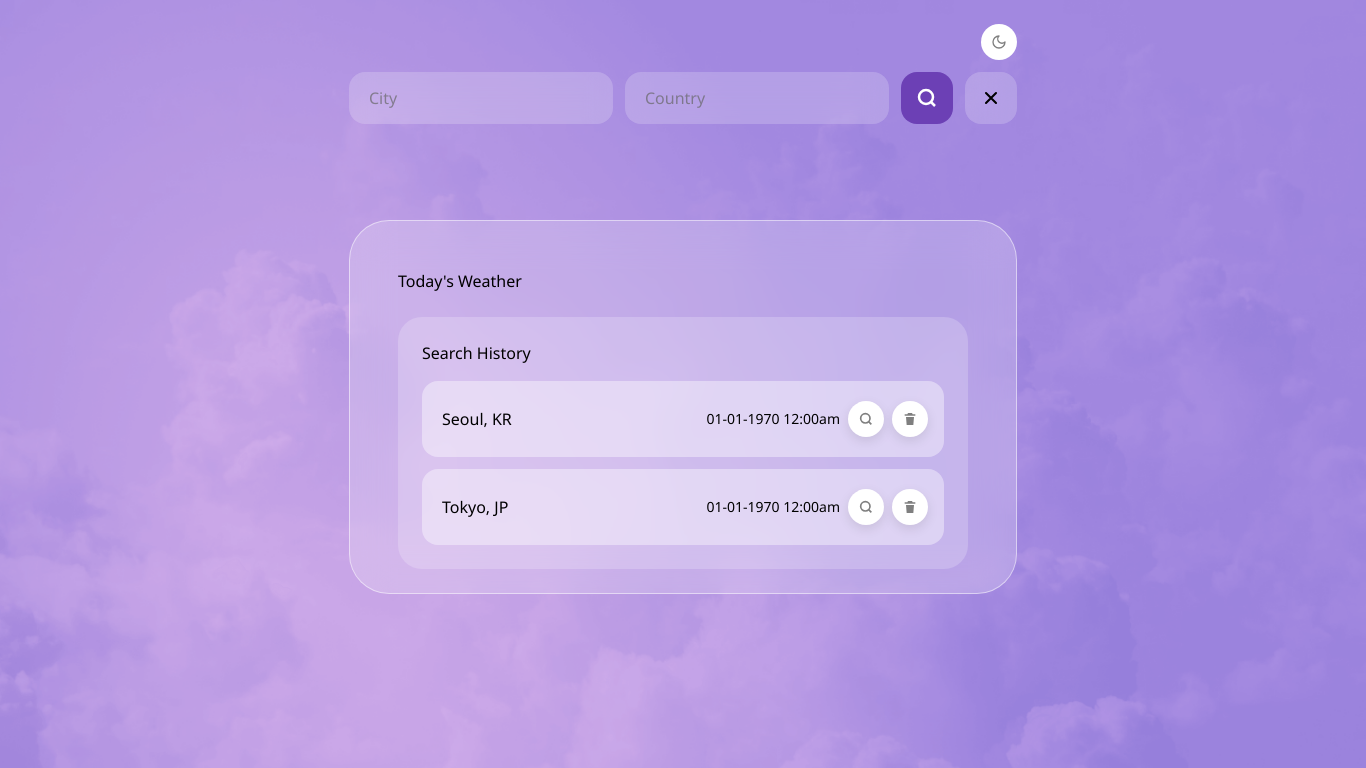
Test: search history › search again fetches fresh weather, updates the time and moves to the top
The width and height of the screenshot is (1366, 768).
Click the button named "Search Tokyo, JP again": coordinates (866, 507) [848,489,884,525]
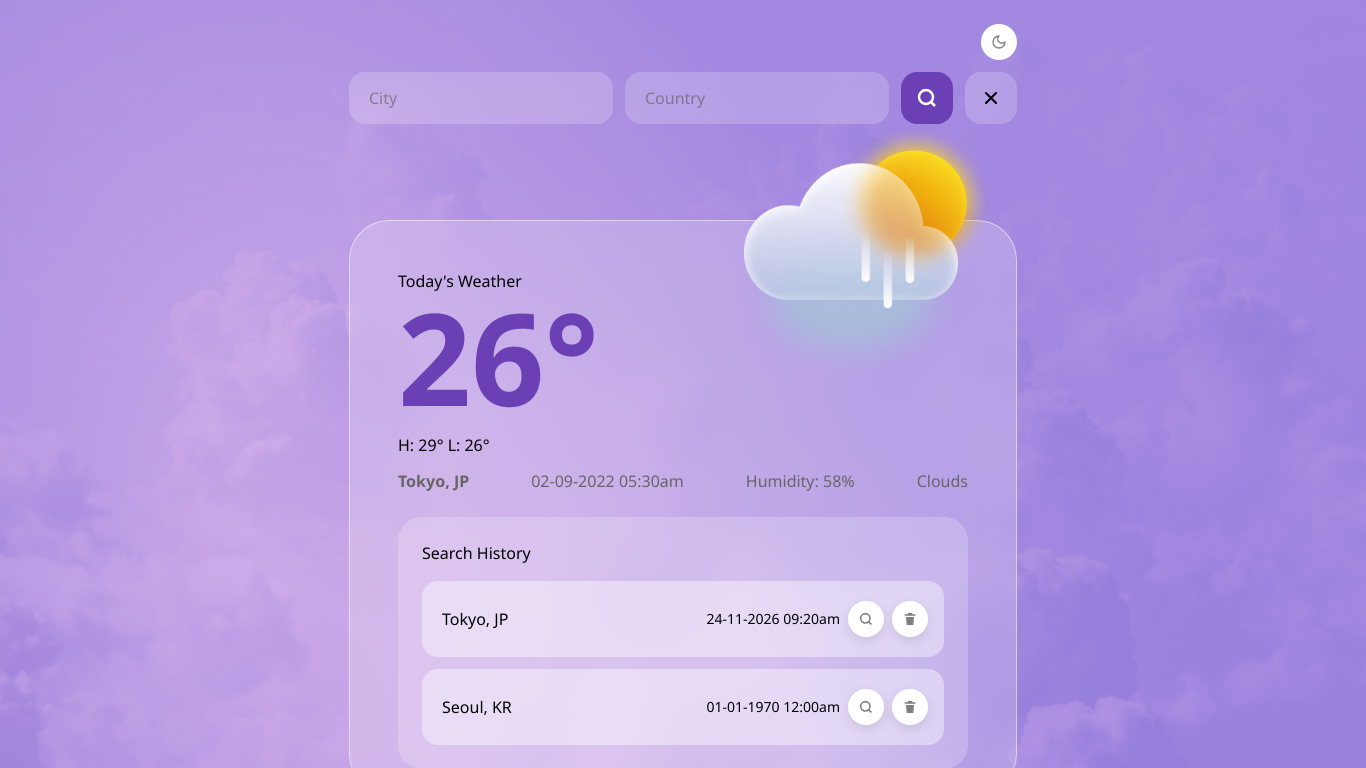
Expected: the text "26°" is shown, [398,269,599,444]
